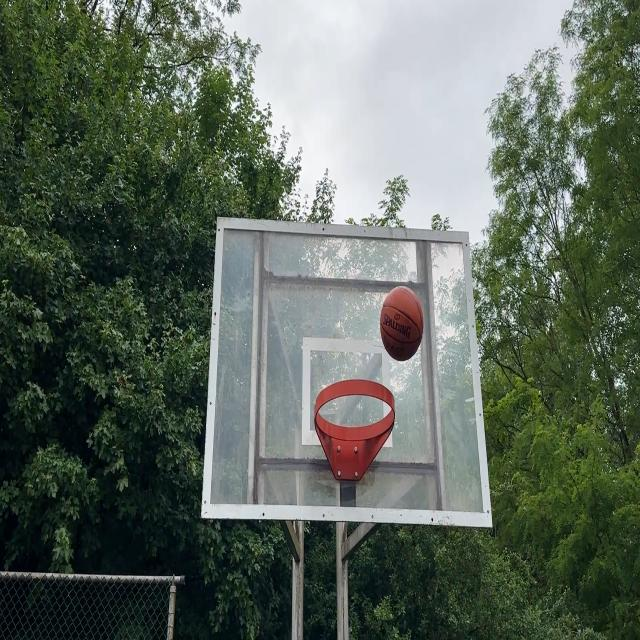Basketball: (378, 286, 422, 362)
